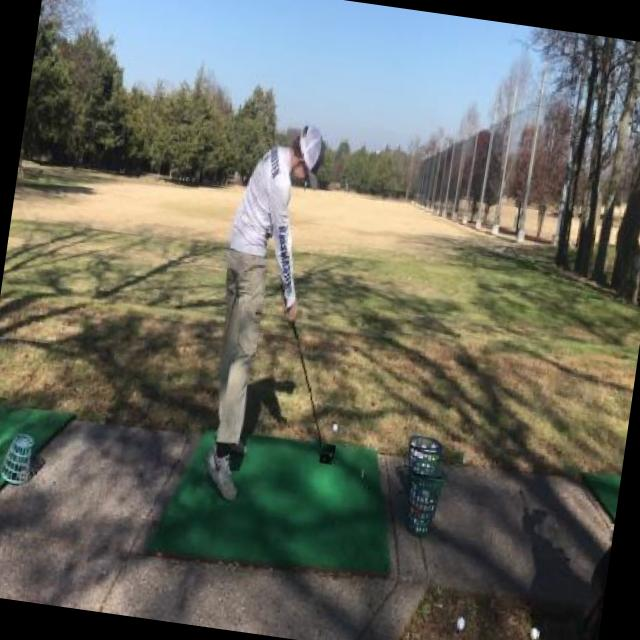club head: (319, 444, 336, 466)
